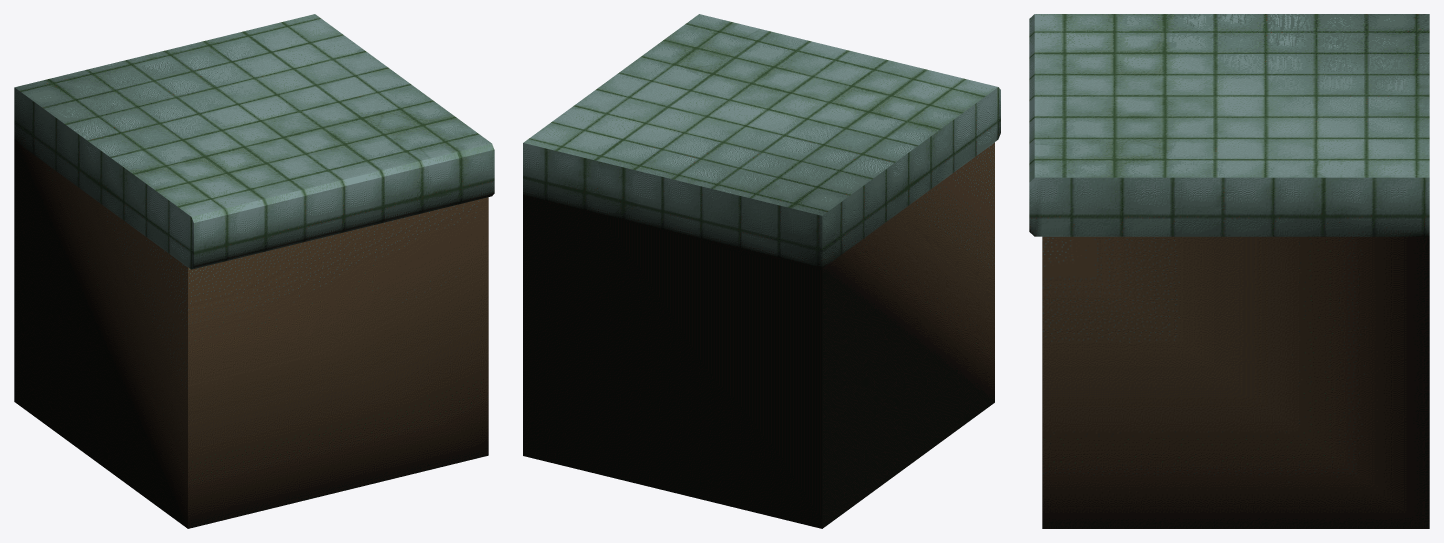
File: LD56_KitchenCounter.fbx
The picture shows the model from 3 angles, left to right: view 1: azimuth 30°, elevation 25°; view 2: azimuth 150°, elevation 25°; view 3: azimuth 270°, elevation 25°; orthographic projection. The views are drawn at different scales.
Parts seen in each view (by area): view 1: counterBase; view 2: counterBase; view 3: counterBase.
Part boxes in pixels (box(x1,y1,x2,y2)): counterBase: box(14, 14, 494, 528); counterBase: box(523, 14, 1000, 528); counterBase: box(1029, 14, 1429, 528).
Size of the model in its own units: 200 by 200 by 207.
